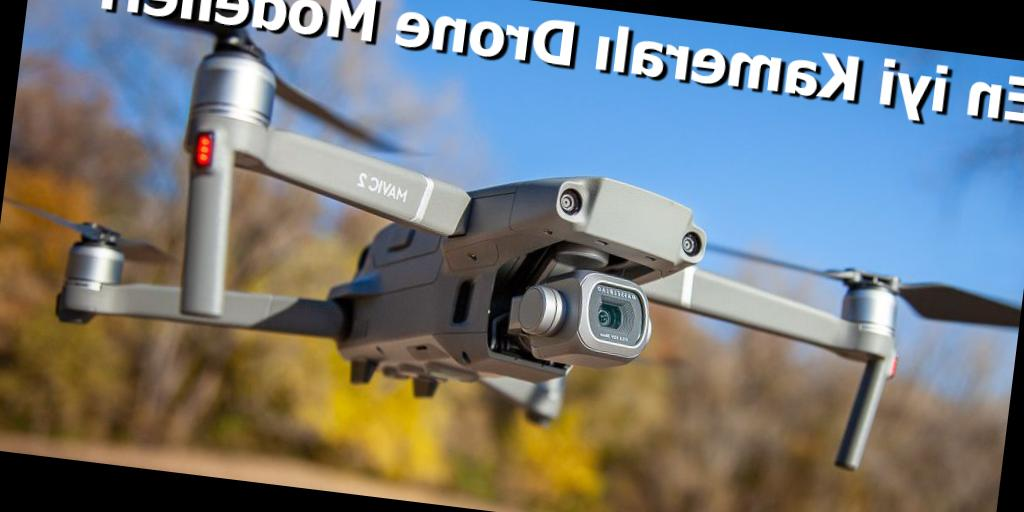drone: (2, 10, 970, 454)
